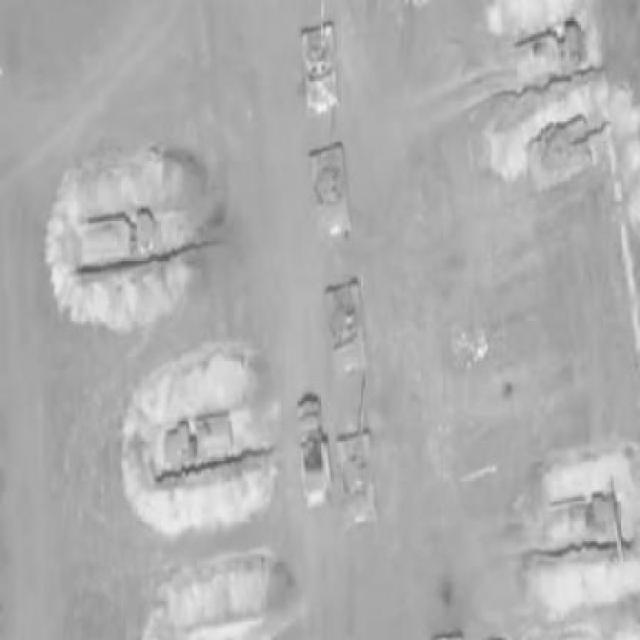Tank: (525, 109, 614, 195), (336, 371, 381, 537), (323, 238, 371, 392), (309, 106, 353, 255), (300, 1, 344, 130)
